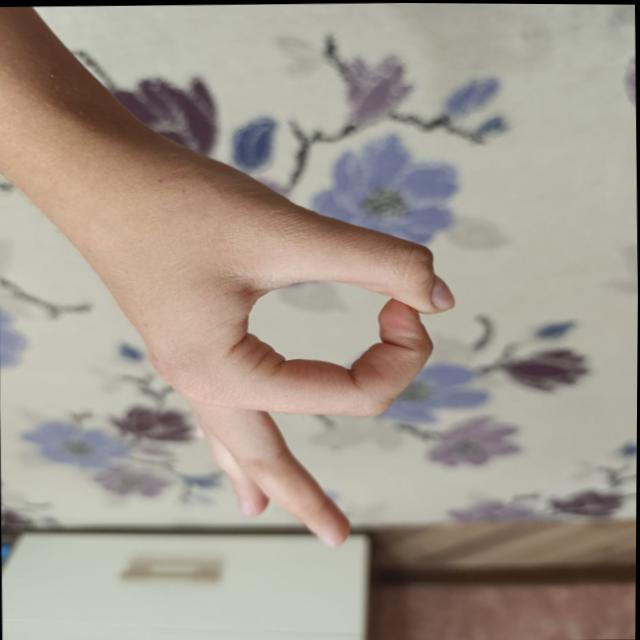o: (123, 188, 475, 574)
